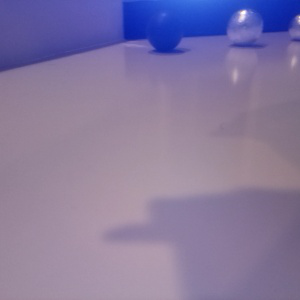alive_ball: (227, 7, 263, 45), (289, 14, 300, 41)
dead_ball: (148, 10, 182, 50)
